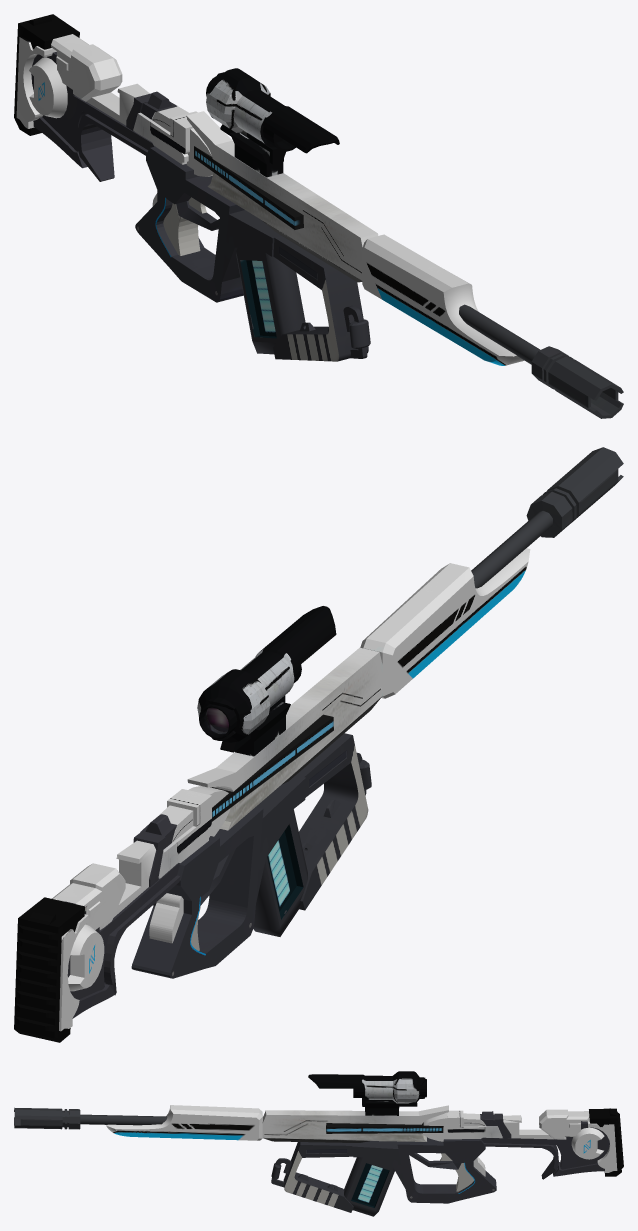
Rendered from sniperFinalv2.obj.
The picture shows the model from 3 angles, top to bottom: view 1: azimuth 30°, elevation 25°; view 2: azimuth 150°, elevation 25°; view 3: azimuth 270°, elevation 25°; orthographic projection. The views are drawn at different scales.
Parts seen in each view (by area): view 1: group2 group1 polySurface19, group2 group1 polySurface7, group2 group1 polySurface22, polySurface34 group2 group1; view 2: group2 group1 polySurface19, group2 group1 polySurface7, group2 group1 polySurface22, polySurface34 group2 group1; view 3: group2 group1 polySurface7, group2 group1 polySurface19, group2 group1 polySurface22, polySurface34 group2 group1.
Part boxes in pixels (x1=…): group2 group1 polySurface19: x1=135, y1=146, x2=370, y2=361; group2 group1 polySurface7: x1=133, y1=102, x2=523, y2=365; group2 group1 polySurface22: x1=14, y1=14, x2=171, y2=181; polySurface34 group2 group1: x1=206, y1=68, x2=623, y2=418; group2 group1 polySurface19: x1=131, y1=733, x2=371, y2=978; group2 group1 polySurface7: x1=140, y1=548, x2=530, y2=878; group2 group1 polySurface22: x1=14, y1=814, x2=180, y2=1042; polySurface34 group2 group1: x1=197, y1=447, x2=623, y2=756; group2 group1 polySurface7: x1=106, y1=1105, x2=502, y2=1142; group2 group1 polySurface19: x1=271, y1=1137, x2=496, y2=1216; group2 group1 polySurface22: x1=481, y1=1108, x2=623, y2=1179; polySurface34 group2 group1: x1=14, y1=1071, x2=426, y2=1129.
Bounding box in the file's own units: 1.33 × 4.77 × 18.64.
